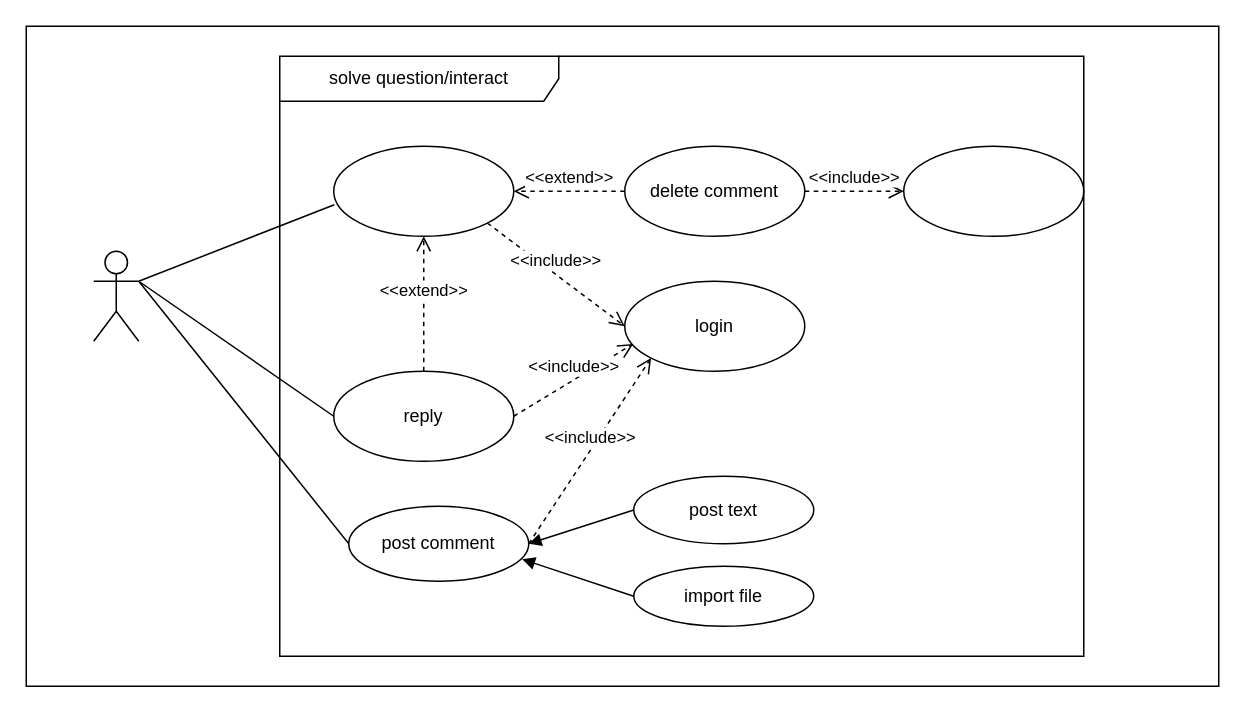
Image size: 1245x713. Some labels were removed from this diagram. The shapes that lost their labels are listed below. From the top down, each one's centre as x and y in pixels, then its label:
[423,190]: view all comments and replies
[993,190]: confirm delete
[115,295]: Teacher/student
